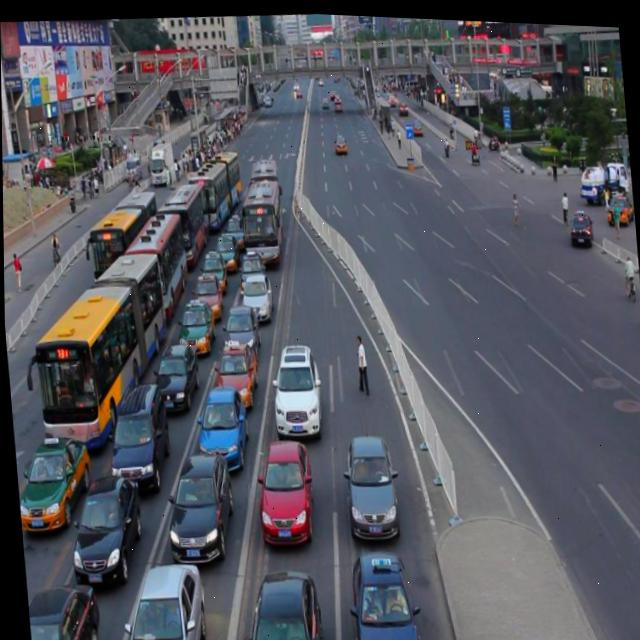car: (65, 475, 145, 587), (163, 453, 237, 567), (13, 433, 92, 533), (105, 383, 171, 493), (344, 546, 420, 640), (118, 561, 205, 640), (253, 439, 315, 544), (340, 434, 400, 539), (238, 567, 320, 640), (268, 343, 323, 438), (195, 386, 249, 472), (25, 583, 99, 640), (153, 343, 201, 414), (213, 340, 259, 410), (221, 304, 261, 365), (175, 298, 216, 355), (239, 275, 273, 321), (192, 275, 223, 319), (198, 247, 226, 290), (237, 249, 266, 290), (564, 200, 592, 242), (211, 230, 239, 271), (603, 184, 634, 221), (222, 213, 246, 250), (332, 131, 346, 152)
van: (15, 249, 175, 456), (117, 209, 191, 325), (79, 189, 164, 285), (185, 148, 245, 232), (155, 181, 211, 268), (239, 178, 284, 264), (248, 157, 282, 224)
